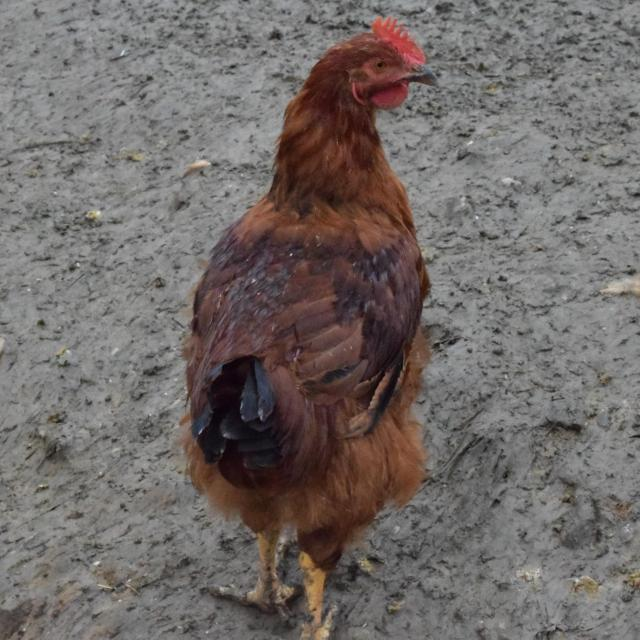cook: (179, 13, 438, 640)
